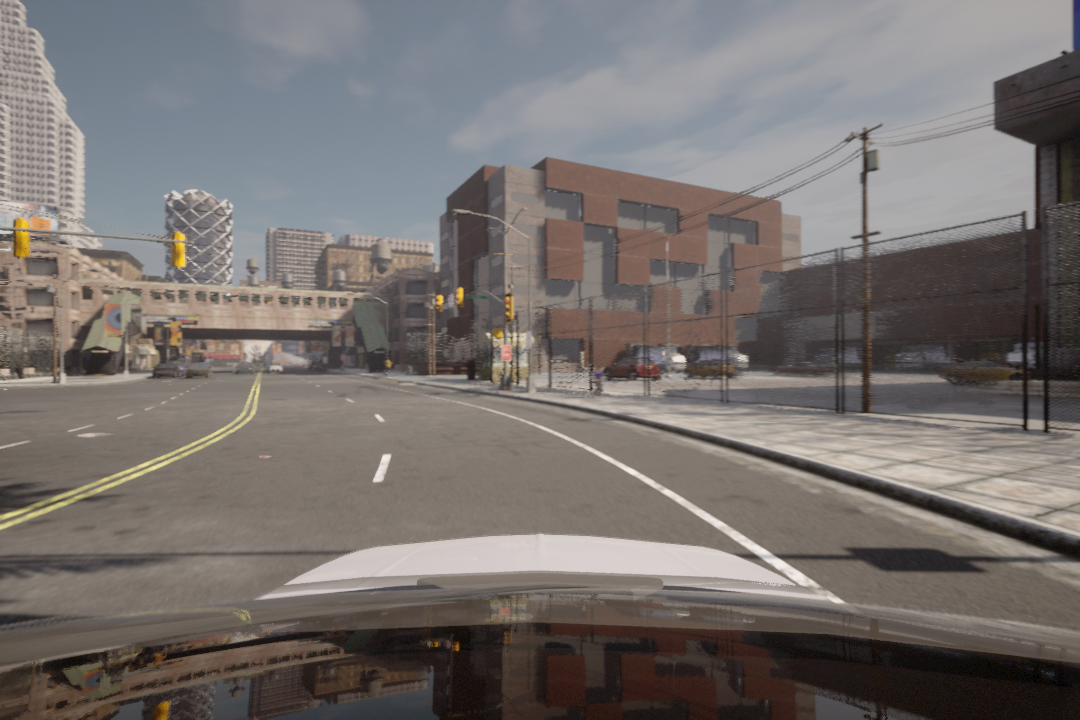TrafficLight: (503, 295, 514, 325), (453, 287, 464, 307), (433, 294, 444, 314)
